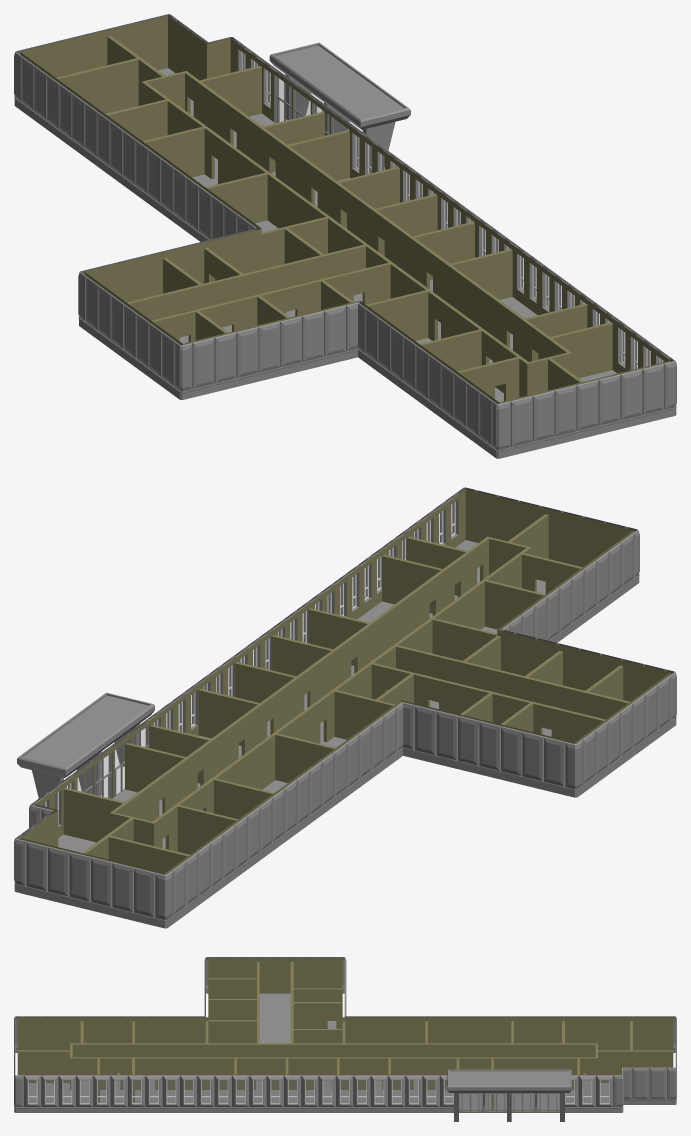
The model's file is 1_floor.DAE.
3 renders of one model, top to bottom at view 1: azimuth 30°, elevation 25°; view 2: azimuth 150°, elevation 25°; view 3: azimuth 270°, elevation 25°, orthographic. The views are drawn at different scales.
Visible parts, largest first — view 1: __floor; view 2: __floor; view 3: __floor.
Boxes of the visible parts, x1,y1,x2,y2 form: __floor: (14, 14, 676, 458); __floor: (14, 487, 676, 928); __floor: (14, 957, 676, 1121).
Size of the model in its own units: 42.95 by 88.45 by 6.6.
